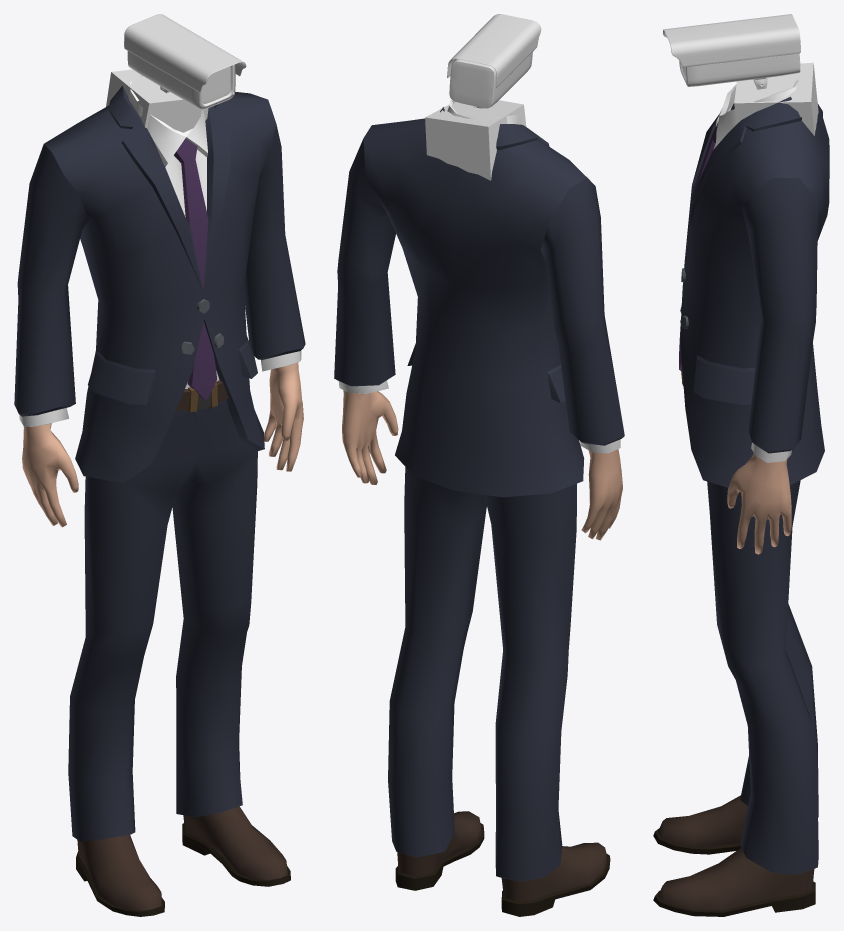
The model's file is cameraman2.fbx.
3 renders of one model, left to right at view 1: azimuth 30°, elevation 25°; view 2: azimuth 150°, elevation 25°; view 3: azimuth 270°, elevation 25°, orthographic.
Parts seen in each view (by area): view 1: man_in_suit, Cam, Cube, glass; view 2: man_in_suit, Cam, Cube; view 3: man_in_suit, Cam, Cube.
Boxes of the visible parts, x1,y1,x2,y2 form: man_in_suit: [14, 75, 305, 916]; Cam: [124, 14, 246, 109]; Cube: [106, 69, 208, 132]; glass: [202, 66, 230, 103]; man_in_suit: [334, 100, 624, 916]; Cam: [447, 14, 541, 108]; Cube: [425, 100, 526, 180]; man_in_suit: [653, 78, 829, 916]; Cam: [663, 14, 800, 89]; Cube: [734, 62, 818, 135].
Bounding box in the file's own units: 59.45 × 166 × 31.12.
